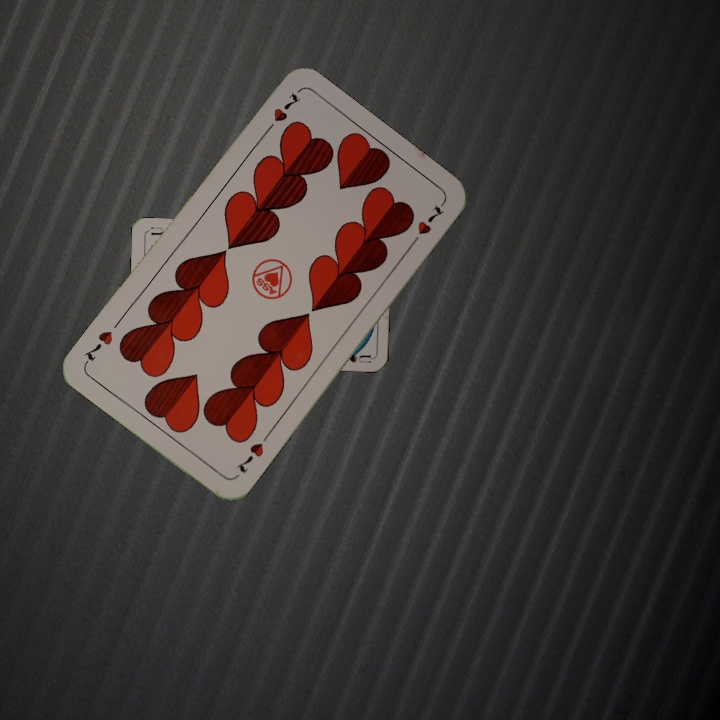H7: (260, 88, 303, 138), (232, 438, 267, 476)
